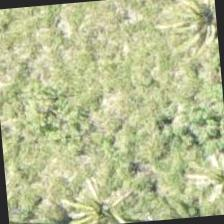Kelapa_Sawit: (53, 172, 148, 223), (162, 0, 221, 72), (180, 145, 223, 219)
